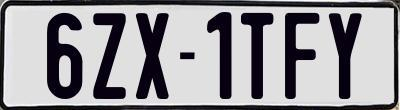1: (205, 10, 236, 99)
6: (47, 12, 83, 99)
F: (284, 13, 321, 104)
T: (241, 13, 274, 101)
X: (134, 10, 169, 100)
Y: (327, 10, 366, 99)
Z: (90, 12, 124, 102)
